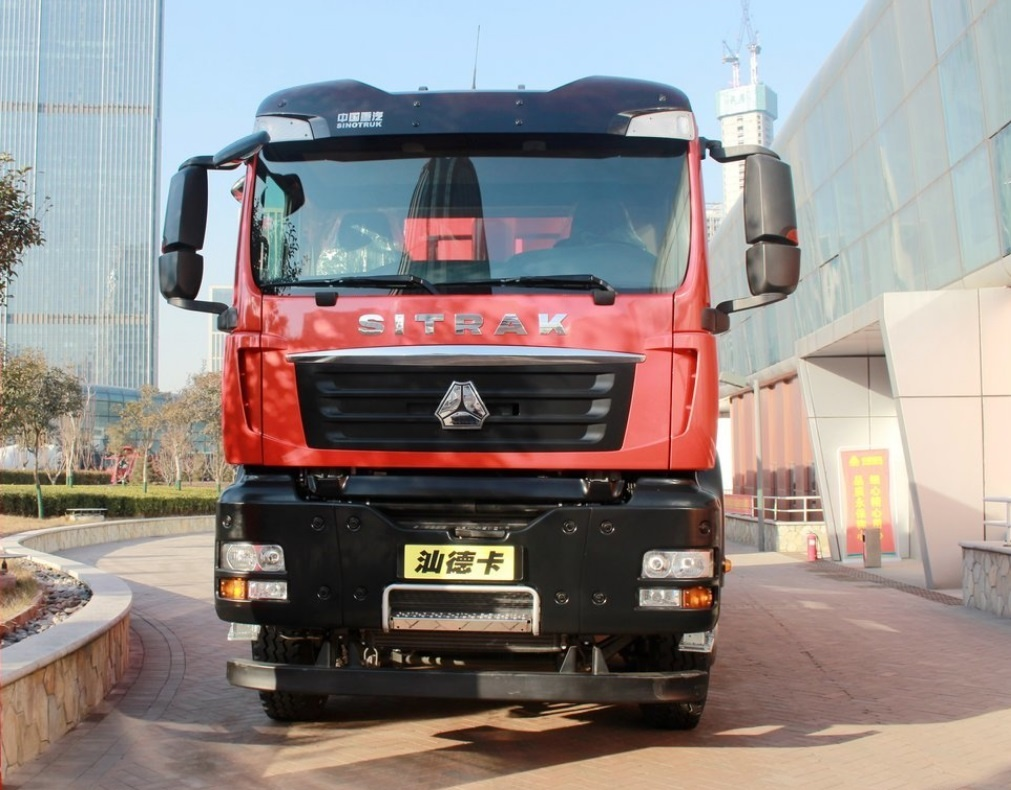heavy truck: (151, 76, 798, 729)
